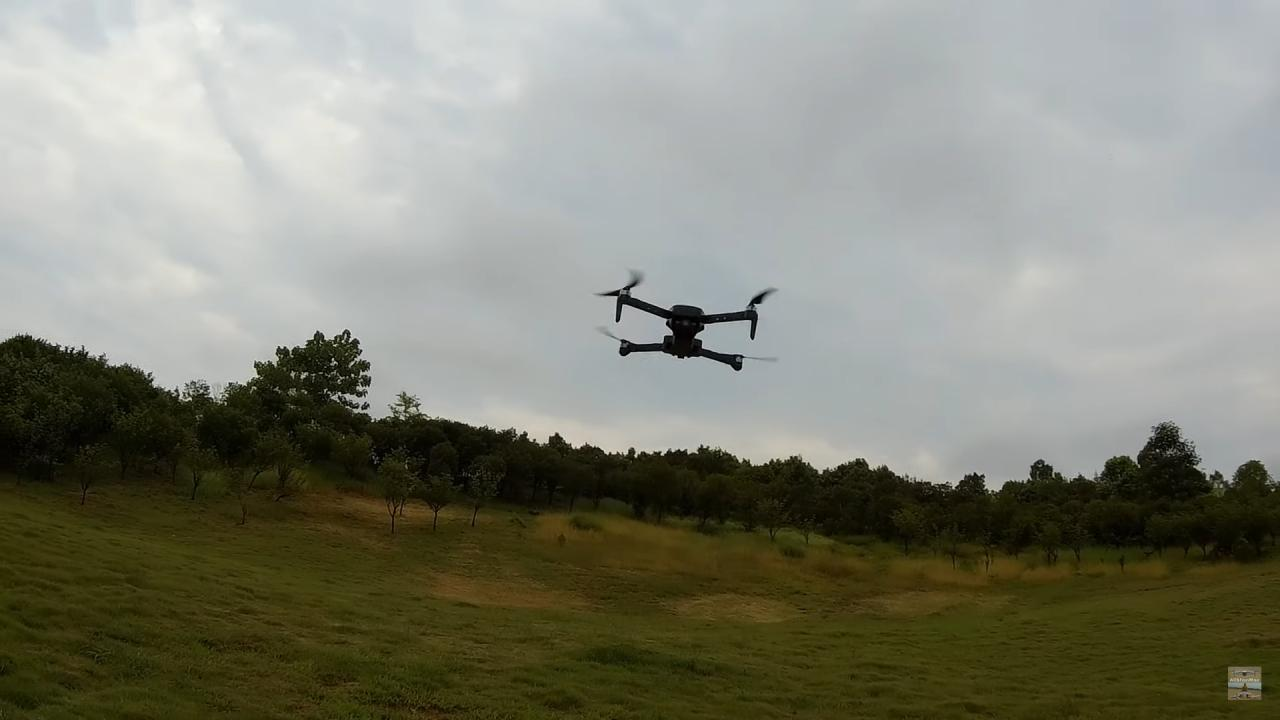Drone: (581, 255, 791, 388)
